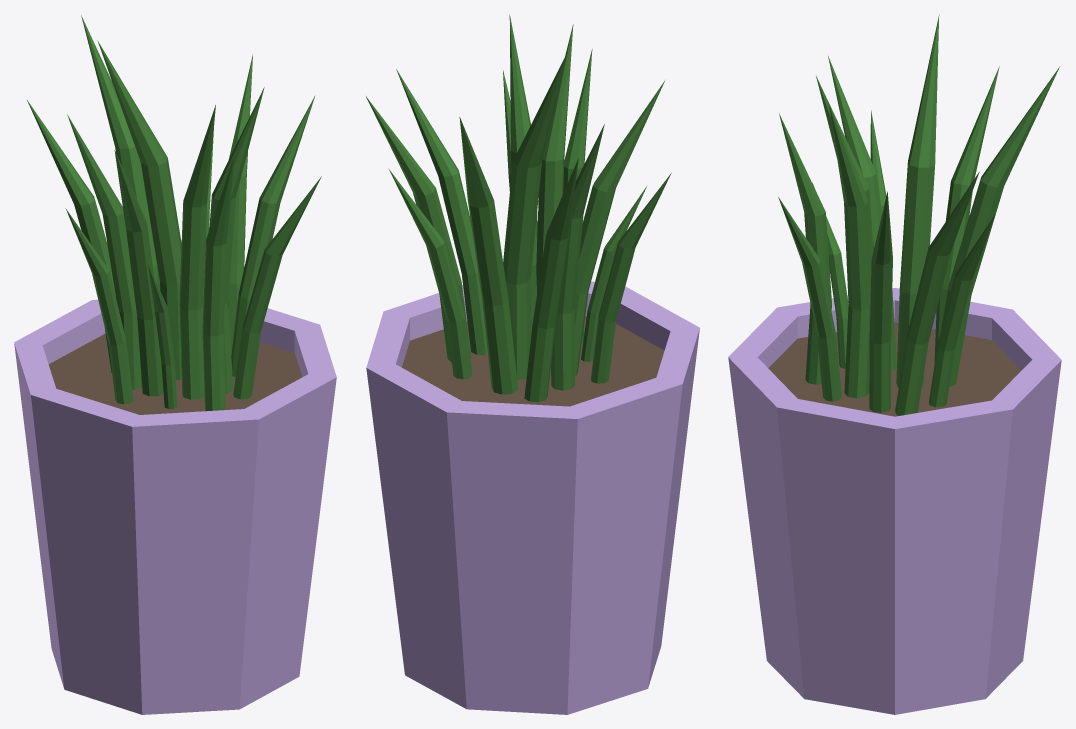
The model's file is Flower_20.fbx.
The picture shows the model from 3 angles, left to right: view 1: azimuth 30°, elevation 25°; view 2: azimuth 150°, elevation 25°; view 3: azimuth 270°, elevation 25°; orthographic projection. The views are drawn at different scales.
Parts seen in each view (by area): view 1: Flower_20; view 2: Flower_20; view 3: Flower_20.
Boxes of the visible parts, x1=… form: Flower_20: x1=14, y1=15, x2=336, y2=714; Flower_20: x1=366, y1=14, x2=699, y2=714; Flower_20: x1=728, y1=14, x2=1061, y2=714.
Bounding box in the file's own units: 25.71 × 25.71 × 52.67.
